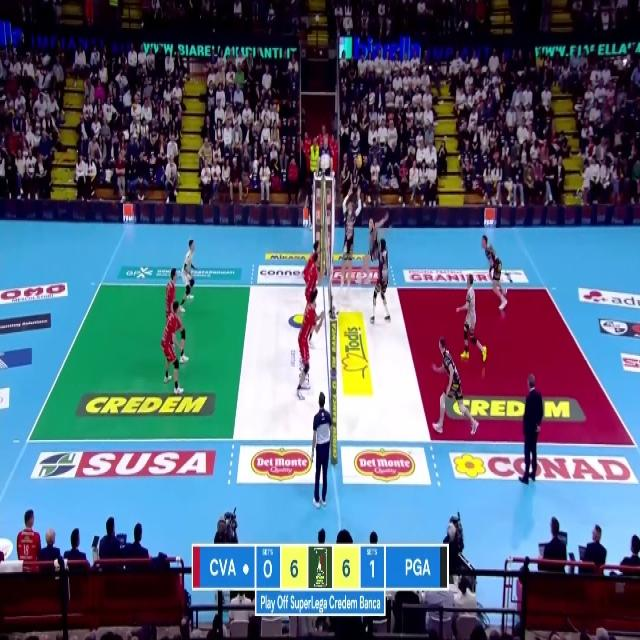volleyball court: (26, 284, 638, 450)
